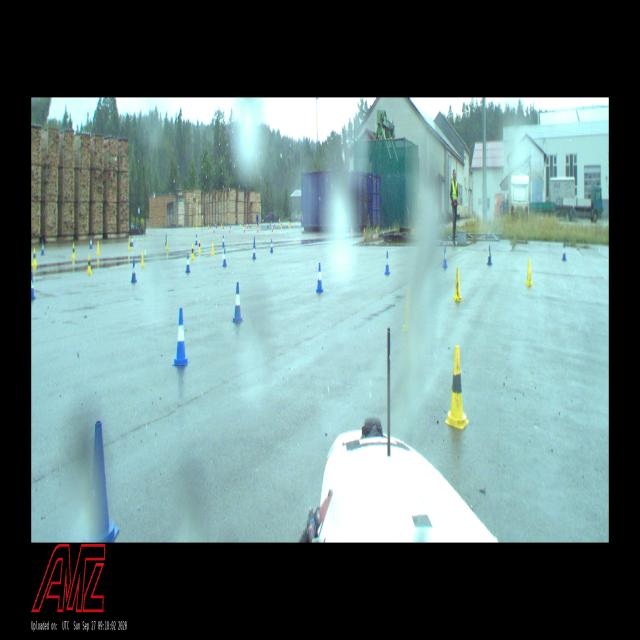blue_cone: (85, 422, 119, 541), (173, 309, 189, 366), (232, 283, 243, 322), (316, 263, 323, 292), (131, 260, 137, 283), (385, 251, 390, 274), (31, 272, 35, 300), (487, 245, 492, 264), (562, 243, 567, 260), (443, 247, 447, 268), (186, 253, 190, 273), (222, 246, 226, 266), (253, 243, 256, 260), (41, 241, 44, 255), (270, 239, 273, 252), (253, 236, 256, 249), (195, 234, 198, 246), (222, 235, 225, 246), (90, 237, 92, 249), (165, 234, 167, 244)
yellow_cone: (445, 346, 469, 429), (402, 286, 413, 332), (454, 269, 462, 301), (526, 258, 532, 287), (87, 255, 92, 274), (32, 248, 36, 266), (140, 250, 144, 268), (127, 238, 131, 251), (191, 243, 194, 260), (72, 243, 75, 259), (97, 240, 100, 254), (198, 240, 201, 252), (166, 238, 169, 250), (212, 242, 214, 255), (290, 221, 290, 228)
